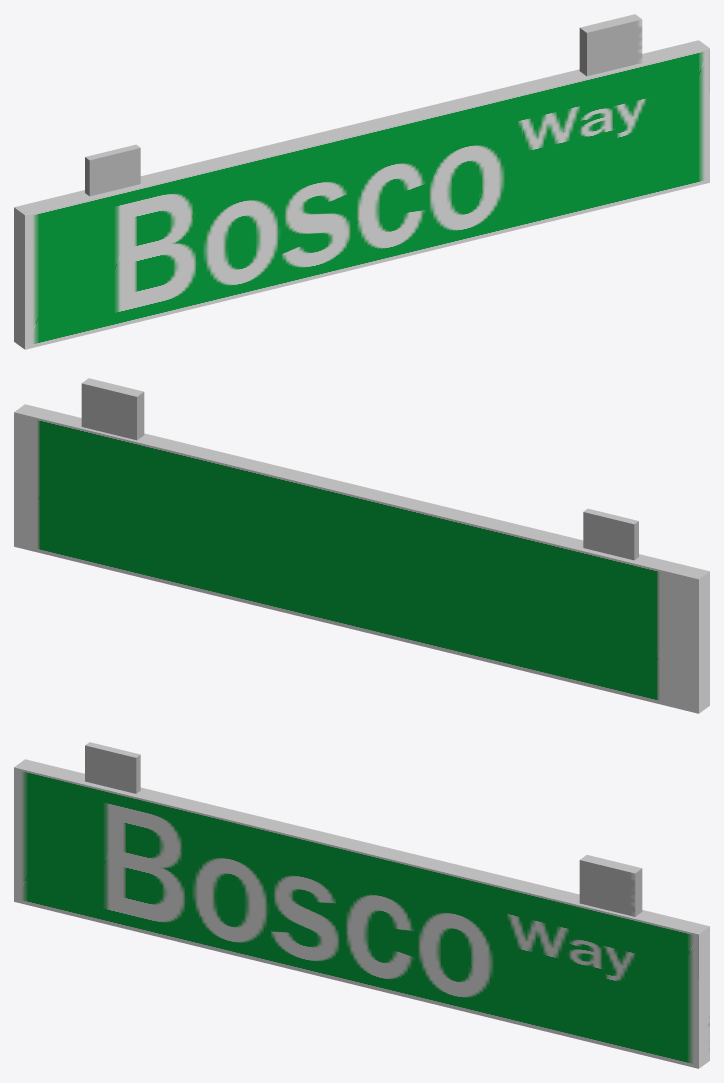
Rendered from StreetSign_Clear.fbx.
The picture shows the model from 3 angles, top to bottom: view 1: azimuth 30°, elevation 25°; view 2: azimuth 150°, elevation 25°; view 3: azimuth 330°, elevation 25°; orthographic projection.
Visible parts, largest first — view 1: Cube.018; view 2: Cube.018; view 3: Cube.018.
Part boxes in pixels (x1,y1,x2,y2): Cube.018: (14, 14, 709, 349); Cube.018: (14, 378, 709, 713); Cube.018: (14, 742, 709, 1068).
Bounding box in the file's own units: 1466 × 364 × 41.21.
1 material, 1 textured.
